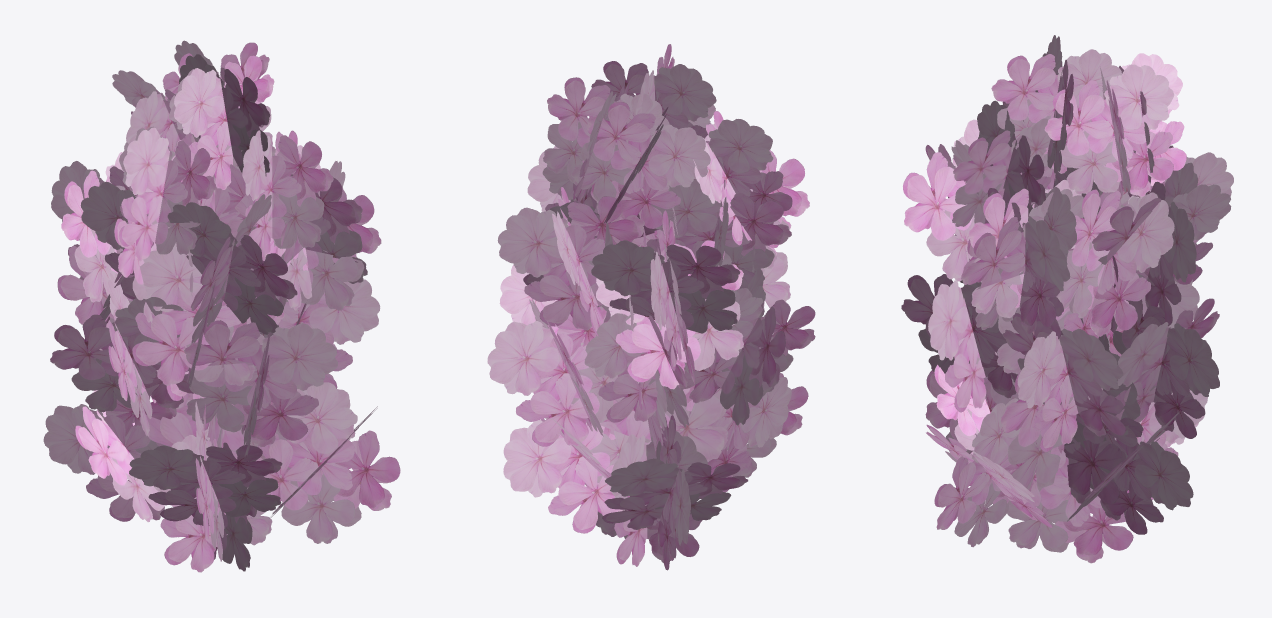
The model's file is Furniture_Plants_32_1.fbx.
The picture shows the model from 3 angles, left to right: view 1: azimuth 30°, elevation 25°; view 2: azimuth 150°, elevation 25°; view 3: azimuth 270°, elevation 25°; orthographic projection. The views are drawn at different scales.
Visible parts, largest first — view 1: Furniture_Plants_32_1; view 2: Furniture_Plants_32_1; view 3: Furniture_Plants_32_1.
Boxes of the visible parts, x1,y1,x2,y2 form: Furniture_Plants_32_1: [43, 40, 400, 572]; Furniture_Plants_32_1: [487, 44, 815, 570]; Furniture_Plants_32_1: [901, 35, 1233, 563].
Bounding box in the file's own units: 46.52 × 71.98 × 46.8.
